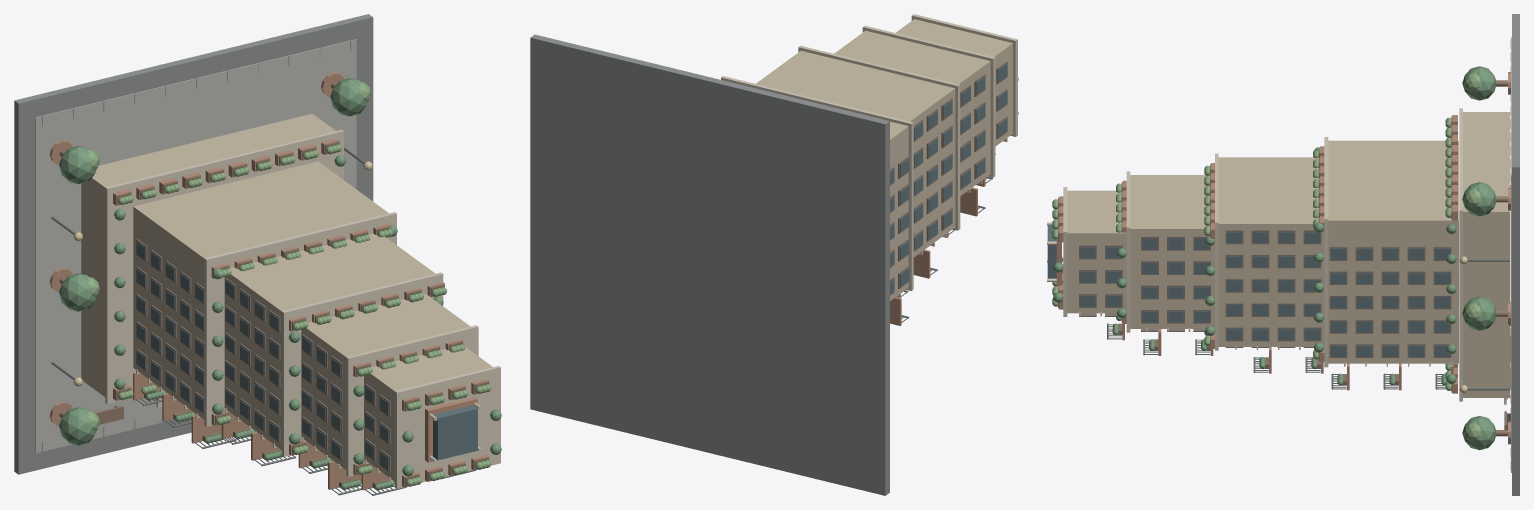
Rendered from sand-tower.glb.
The picture shows the model from 3 angles, left to right: view 1: azimuth 30°, elevation 25°; view 2: azimuth 150°, elevation 25°; view 3: azimuth 270°, elevation 25°; orthographic projection. The views are drawn at different scales.
Parts seen in each view (by area): view 1: 0001_paving, 0000_city_block, 0026_setback_tower, 0411_setback_tower, 0024_ground_podium, 0025_podium_cornice, 0686_setback_tower, 0884_roof_coping, 0027_roof_coping, 0883_setback_tower, 0412_roof_coping, 0687_roof_coping (+6 smaller); view 2: 0000_city_block, 0411_setback_tower, 0686_setback_tower, 0883_setback_tower, 0026_setback_tower, 0027_roof_coping, 0412_roof_coping, 0687_roof_coping, 0884_roof_coping; view 3: 0026_setback_tower, 0411_setback_tower, 0024_ground_podium, 0686_setback_tower, 0883_setback_tower, 0000_city_block, 0027_roof_coping, 0025_podium_cornice, 0687_roof_coping, 0412_roof_coping, 1378_tree_canopy, 1386_tree_canopy (+3 smaller).
Boxes of the visible parts, <box> form: 0001_paving: <box>35,39,356,453</box>; 0000_city_block: <box>14,14,373,474</box>; 0026_setback_tower: <box>133,161,388,419</box>; 0411_setback_tower: <box>224,233,434,449</box>; 0024_ground_podium: <box>81,113,335,396</box>; 0025_podium_cornice: <box>105,130,343,404</box>; 0686_setback_tower: <box>301,294,470,469</box>; 0884_roof_coping: <box>395,366,500,488</box>; 0027_roof_coping: <box>204,212,396,426</box>; 0883_setback_tower: <box>364,346,492,481</box>; 0412_roof_coping: <box>281,272,443,456</box>; 0687_roof_coping: <box>346,325,478,476</box>; 0000_city_block: <box>530,34,889,495</box>; 0411_setback_tower: <box>756,50,955,257</box>; 0686_setback_tower: <box>834,30,990,195</box>; 0883_setback_tower: <box>895,19,1012,146</box>; 0026_setback_tower: <box>890,121,908,300</box>; 0027_roof_coping: <box>721,76,913,290</box>; 0412_roof_coping: <box>798,45,960,230</box>; 0687_roof_coping: <box>862,25,995,177</box>; 0884_roof_coping: <box>911,14,1017,136</box>; 0026_setback_tower: <box>1328,140,1458,363</box>; 0411_setback_tower: <box>1218,157,1324,346</box>; 0024_ground_podium: <box>1463,112,1510,397</box>; 0686_setback_tower: <box>1130,175,1214,328</box>; 0883_setback_tower: <box>1067,190,1126,313</box>; 0000_city_block: <box>1512,14,1519,495</box>; 0027_roof_coping: <box>1324,137,1328,367</box>; 0025_podium_cornice: <box>1459,108,1462,401</box>; 0687_roof_coping: <box>1126,171,1130,332</box>; 0412_roof_coping: <box>1215,153,1218,350</box>; 1378_tree_canopy: <box>1462,416,1495,450</box>; 1386_tree_canopy: <box>1462,182,1495,216</box>.
Size of the model in its own units: 23 by 23 by 29.98.
